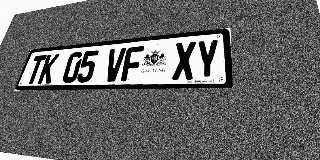0: (61, 52, 84, 83)
5: (76, 50, 99, 83)
F: (121, 46, 144, 81)
K: (37, 54, 60, 84)
T: (25, 55, 47, 84)
V: (103, 48, 126, 82)
X: (172, 41, 196, 80)
Y: (195, 39, 219, 79)
